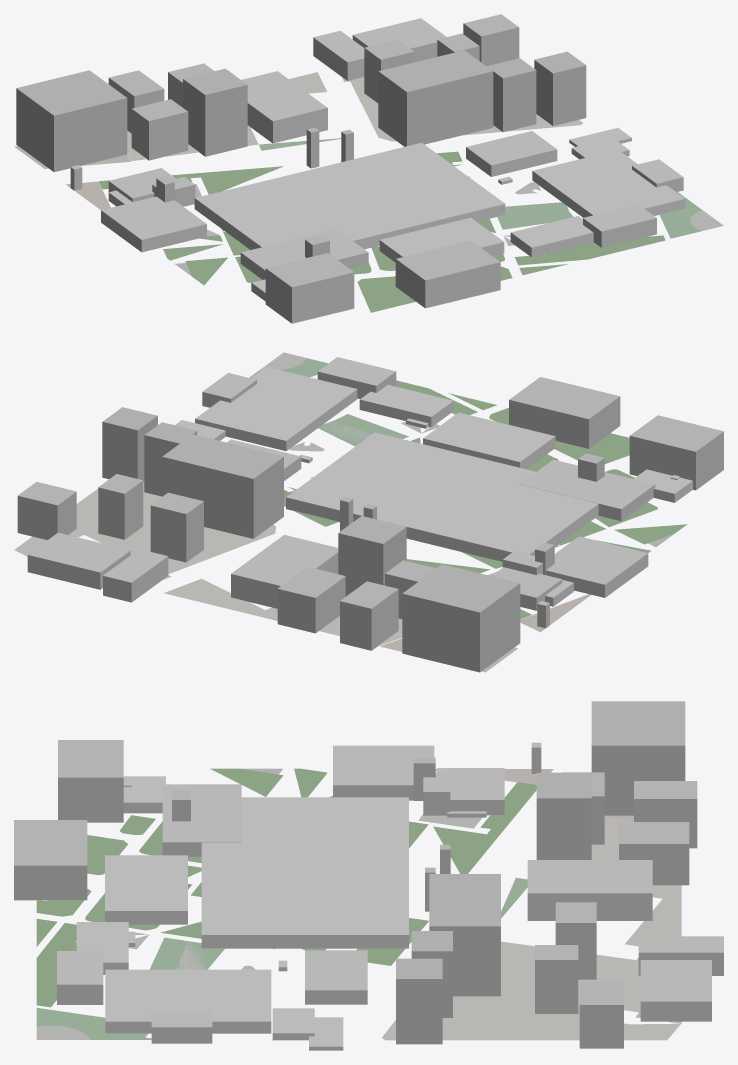
Rendered from 126_104_mid.glb.
The picture shows the model from 3 angles, top to bottom: view 1: azimuth 30°, elevation 25°; view 2: azimuth 150°, elevation 25°; view 3: azimuth 270°, elevation 25°; orthographic projection. The views are drawn at different scales.
Size of the model in its own units: 534 by 65.72 by 550.
